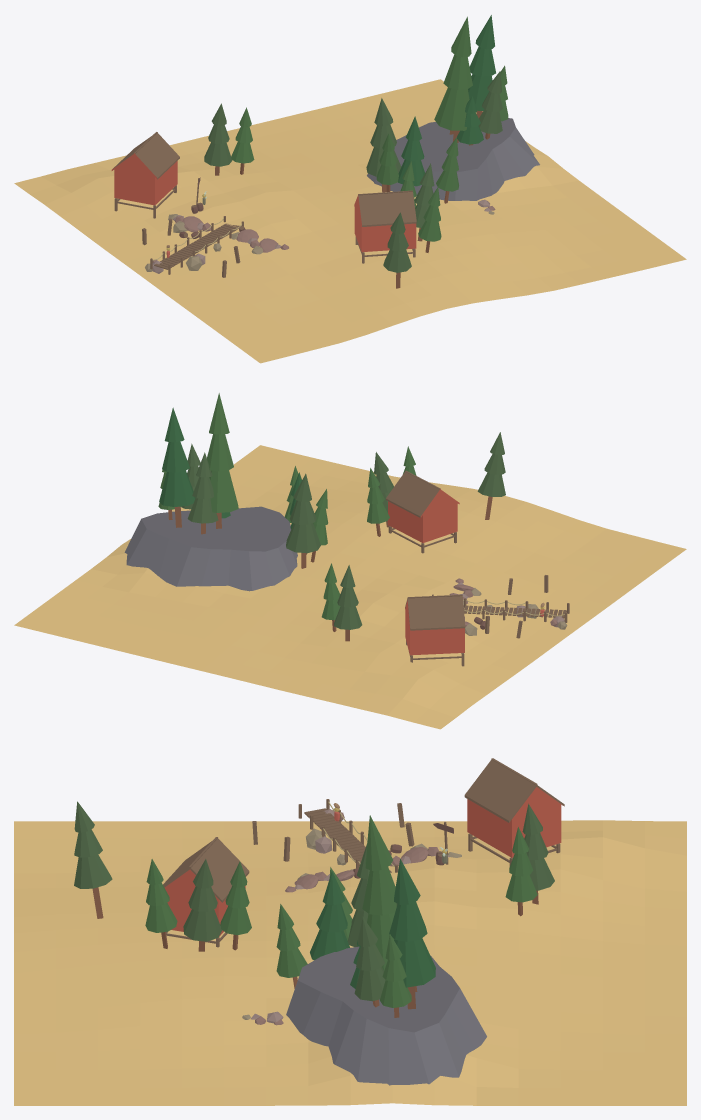
Rendered from starterisland.glb.
3 renders of one model, top to bottom at view 1: azimuth 30°, elevation 25°; view 2: azimuth 150°, elevation 25°; view 3: azimuth 270°, elevation 25°, orthographic. The views are drawn at different scales.
Parts seen in each view (by area): view 1: Plane.021, Cylinder.038, Cube.035, Cube.031, Cone.012, Cone.011, Cone.016, Cone.035, Cone.019, Cone.017, Cone.013, Cube.027 (+6 smaller); view 2: Plane.021, Cylinder.038, Cube.031, Cube.035, Cone.012, Cone.011, Cone.016, Cone.010, Cone.035, Cone.019, Cone.034, Cube.027 (+3 smaller); view 3: Plane.021, Cylinder.038, Cube.035, Cube.031, Cone.011, Cone.012, Cone.019, Cone.033, Cone.017, Cone.013, Cone.035, Cone.037 (+6 smaller).
Boxes of the visible parts, left/top/right/bottom form: Plane.021: left=14, top=79, right=686, bottom=363; Cylinder.038: left=367, top=118, right=539, bottom=200; Cube.035: left=111, top=132, right=179, bottom=205; Cube.031: left=354, top=190, right=416, bottom=252; Cone.012: left=434, top=16, right=472, bottom=130; Cone.011: left=468, top=15, right=495, bottom=110; Cone.016: left=366, top=98, right=401, bottom=176; Cone.035: left=204, top=103, right=232, bottom=166; Cone.019: left=383, top=212, right=411, bottom=272; Cone.017: left=398, top=116, right=424, bottom=186; Cone.013: left=478, top=71, right=502, bottom=133; Cube.027: left=154, top=223, right=239, bottom=269; Plane.021: left=14, top=445, right=686, bottom=729; Cylinder.038: left=124, top=506, right=297, bottom=591; Cube.031: left=386, top=470, right=459, bottom=542; Cube.035: left=405, top=594, right=465, bottom=655; Cone.012: left=207, top=393, right=238, bottom=512; Cone.011: left=159, top=407, right=195, bottom=506; Cone.016: left=286, top=473, right=320, bottom=553; Cone.010: left=187, top=452, right=218, bottom=523; Cone.035: left=334, top=565, right=362, bottom=629; Cone.019: left=477, top=432, right=505, bottom=496; Cone.034: left=367, top=468, right=389, bottom=523; Cube.027: left=463, top=605, right=566, bottom=618; Plane.021: left=14, top=820, right=686, bottom=1105; Cylinder.038: left=286, top=946, right=486, bottom=1085; Cube.035: left=464, top=758, right=564, bottom=857; Cube.031: left=163, top=837, right=249, bottom=936; Cone.011: left=389, top=859, right=435, bottom=987; Cone.012: left=362, top=815, right=396, bottom=970; Cone.019: left=74, top=801, right=112, bottom=888; Cone.033: left=183, top=859, right=222, bottom=941; Cone.017: left=310, top=871, right=349, bottom=960; Cone.013: left=354, top=917, right=385, bottom=1001; Cone.035: left=522, top=803, right=554, bottom=890; Cone.037: left=145, top=859, right=177, bottom=932.
Size of the model in its own units: 6.55 by 2.51 by 6.55.
